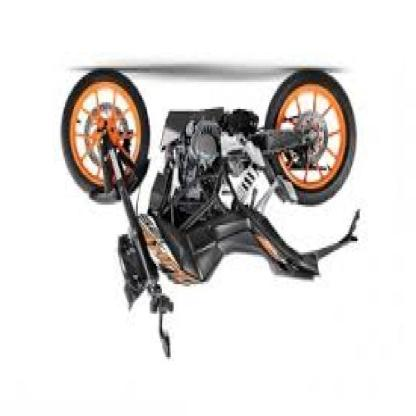bike: (59, 68, 360, 357)
